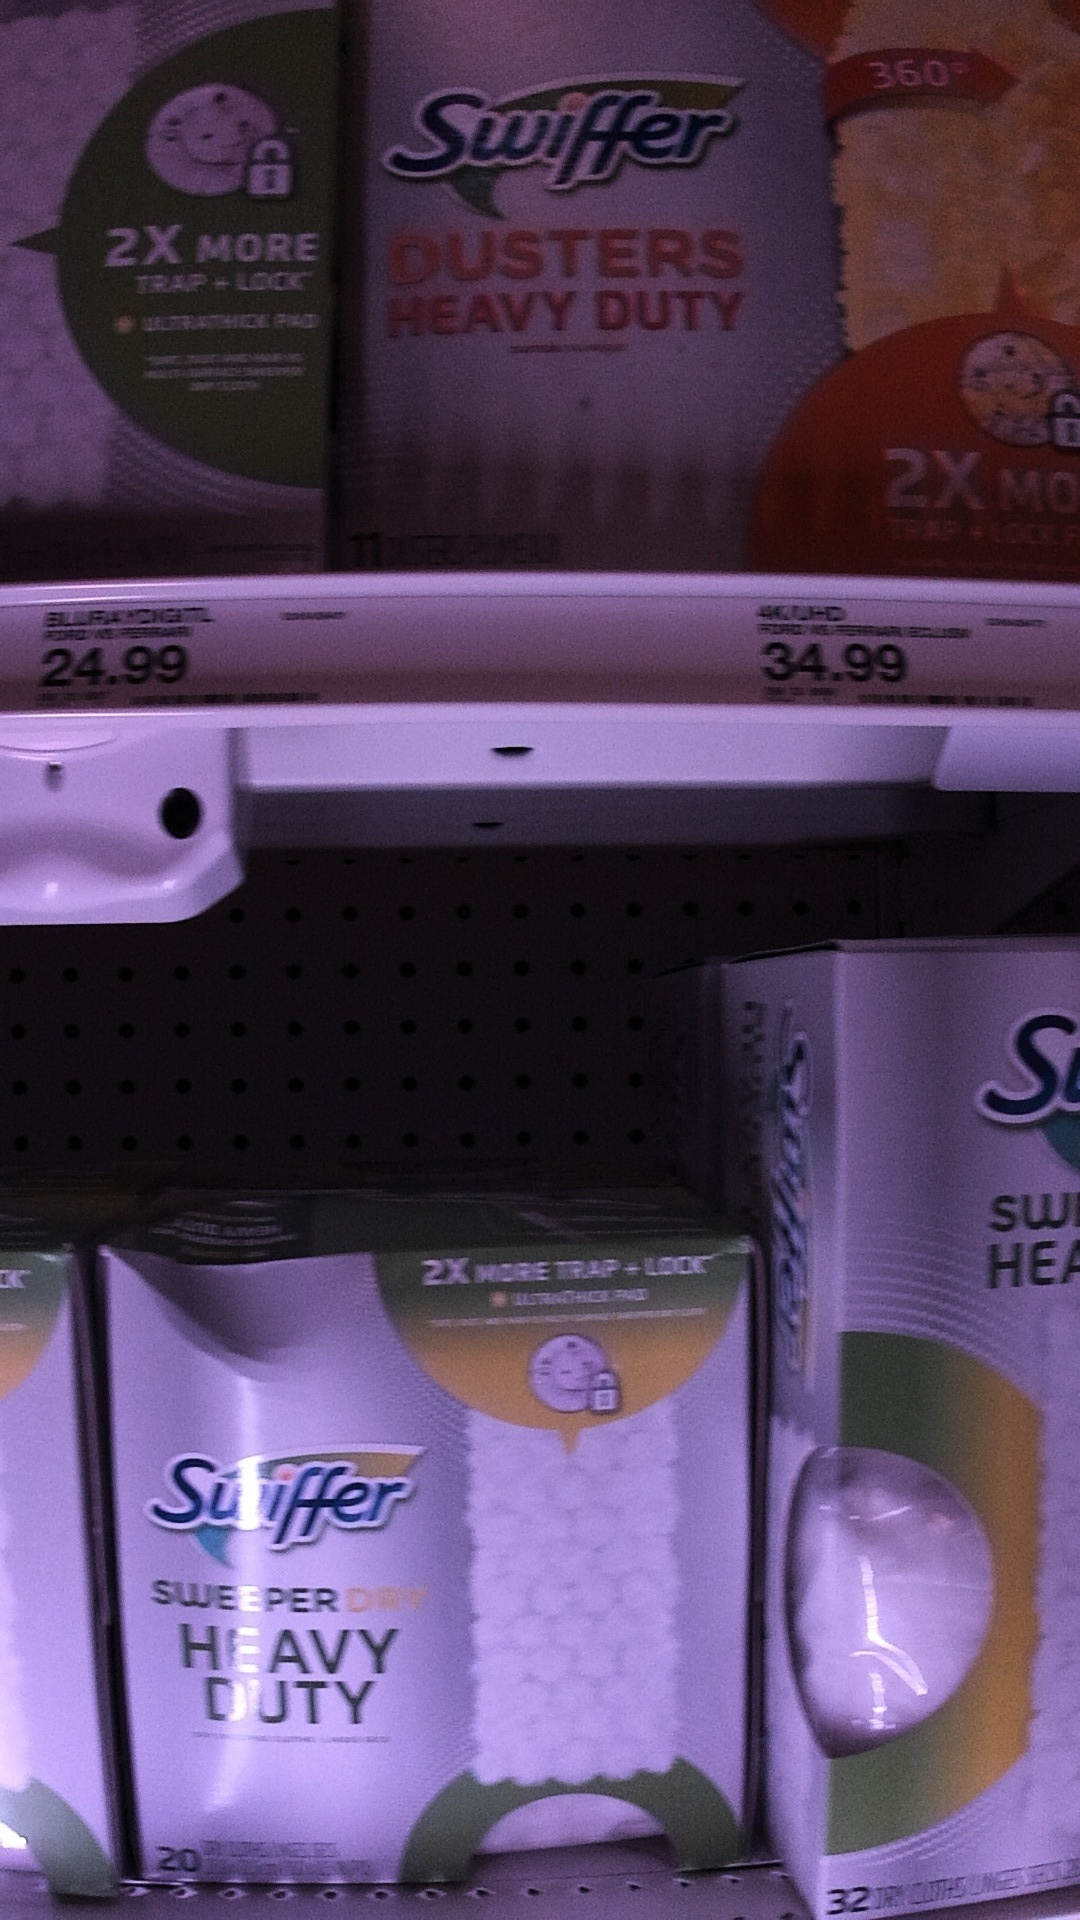ptag: (740, 585, 1055, 717), (20, 600, 342, 711)
